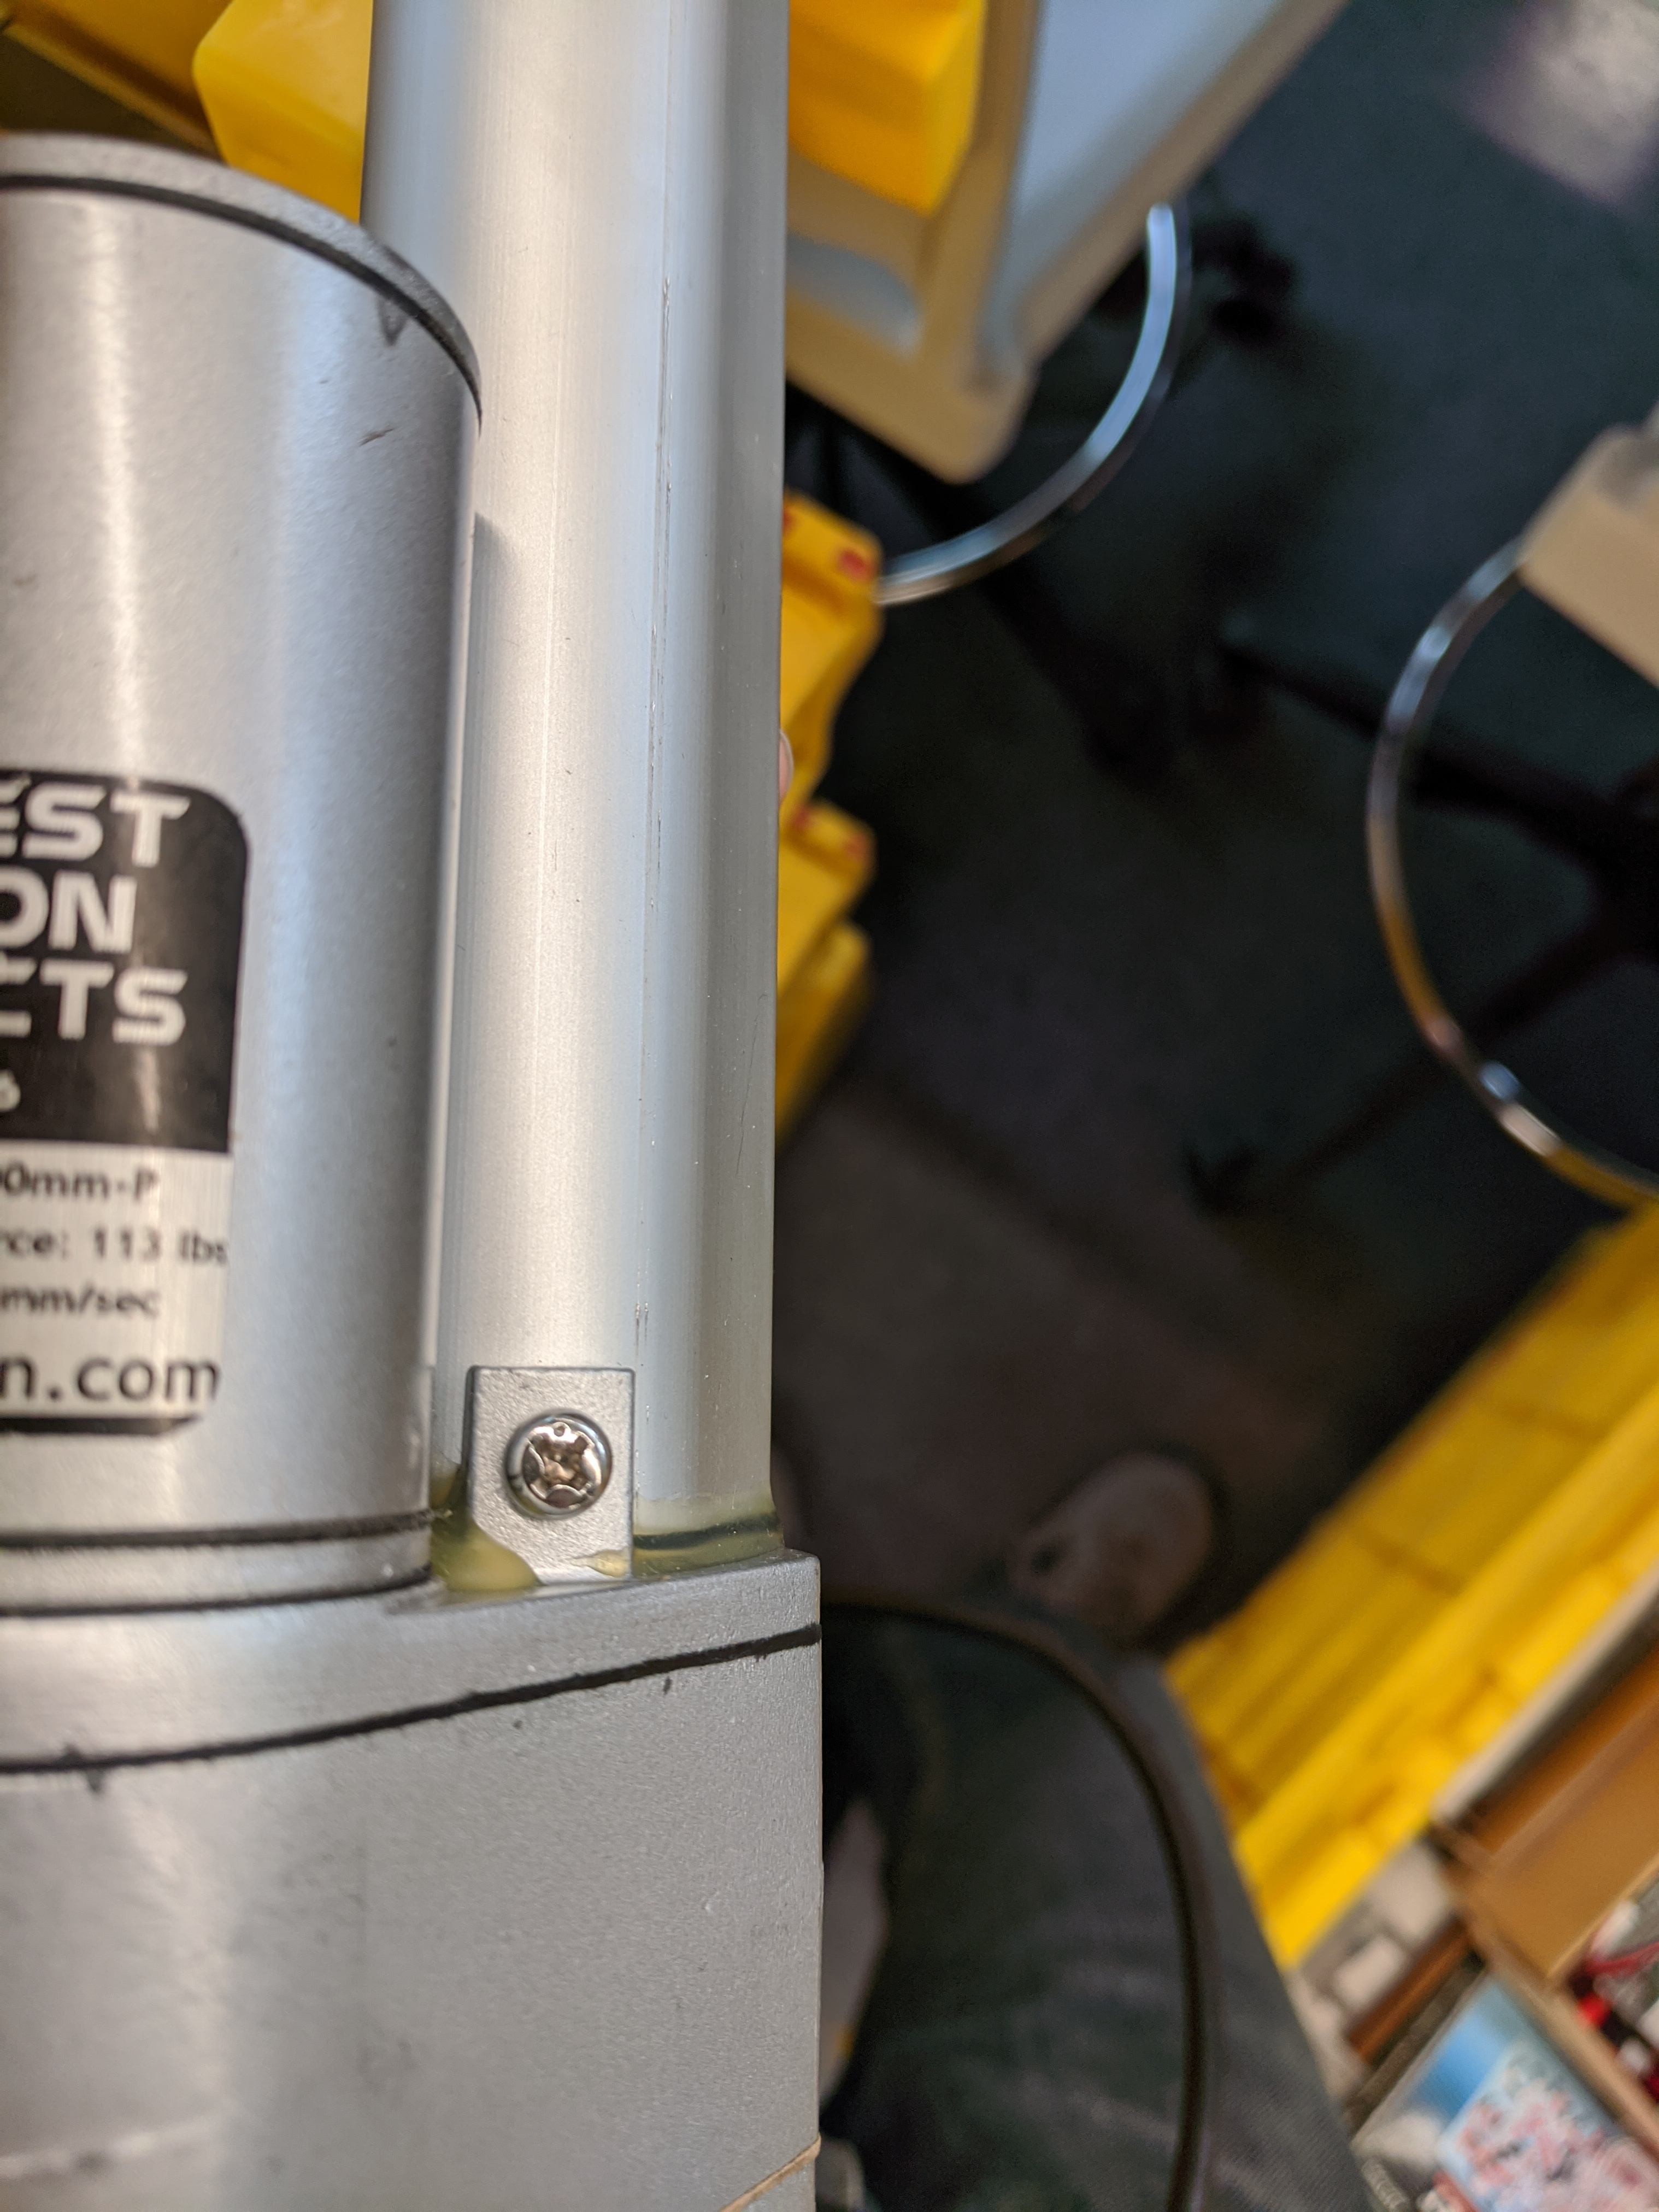cross_recessed_screw: (491, 1399, 629, 1524)
